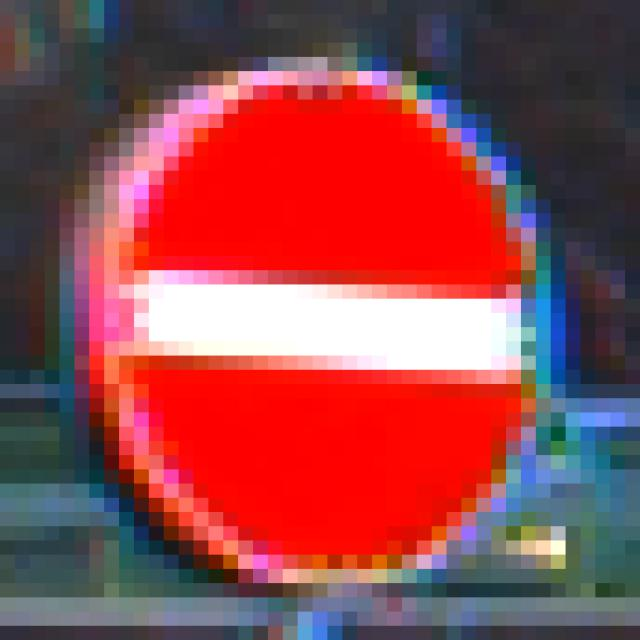No Entry: (76, 72, 567, 570)
